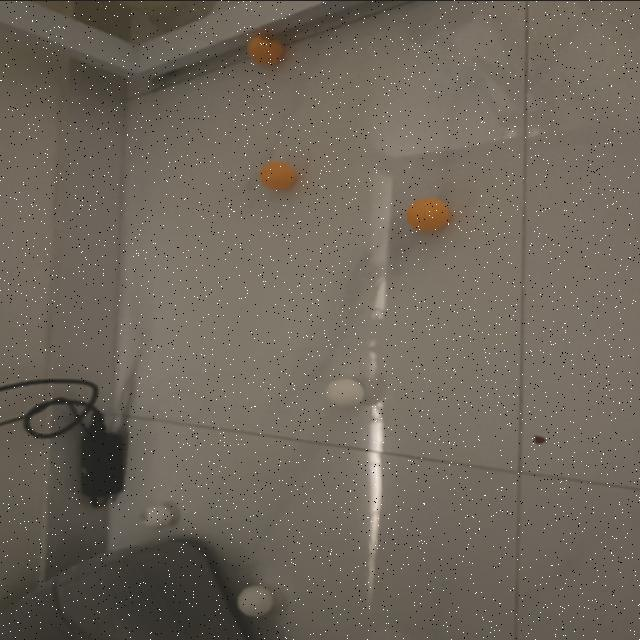ping-pong-ball: (405, 196, 453, 232), (247, 31, 285, 66), (236, 584, 275, 616), (326, 377, 366, 408), (259, 161, 295, 189), (140, 502, 172, 528)
